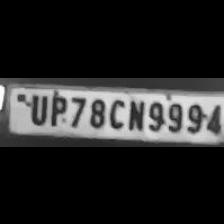4: (202, 100, 222, 134)
7: (67, 92, 87, 128)
8: (86, 96, 106, 128)
9: (164, 98, 184, 132), (184, 100, 204, 132), (146, 97, 164, 130)
C: (105, 96, 124, 128)
N: (125, 97, 144, 131)
P: (46, 91, 68, 127)
U: (24, 91, 48, 125)
